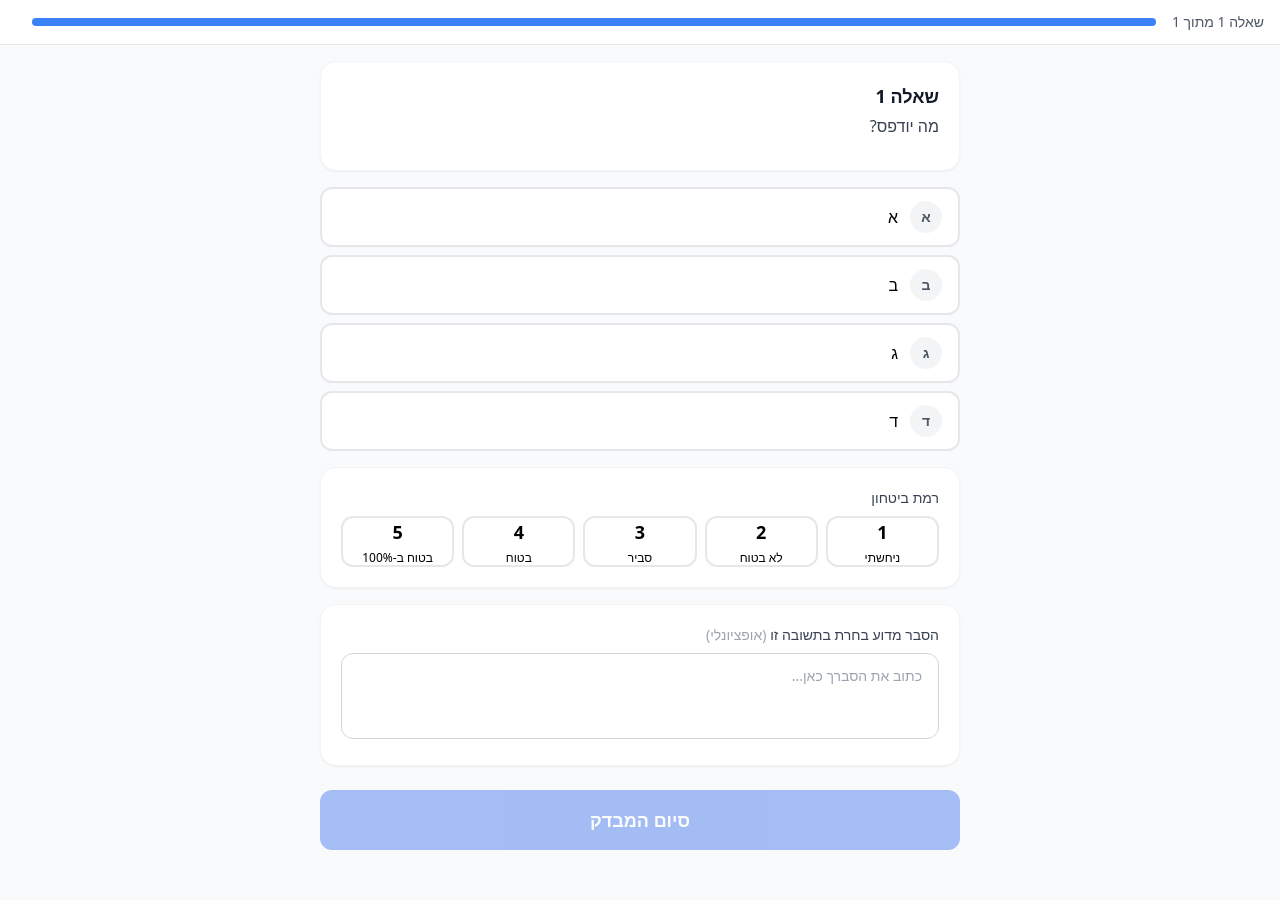
Test: QuizFlow › shows completion message after final question
Click the button "ב ב".
click(926, 285)  # box [320,255,960,315]
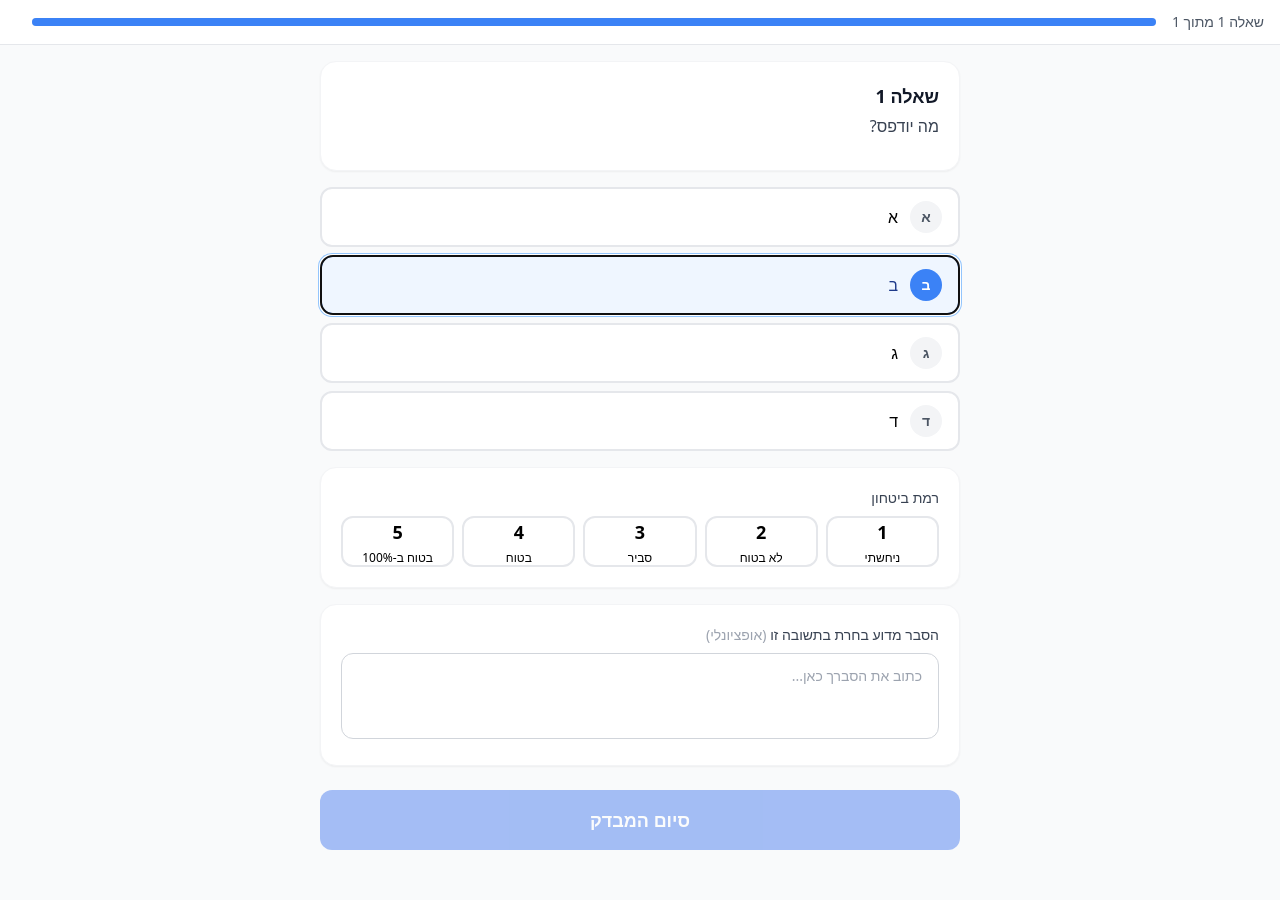
Click the text "3".
click(640, 532)  # box [635,518,645,546]
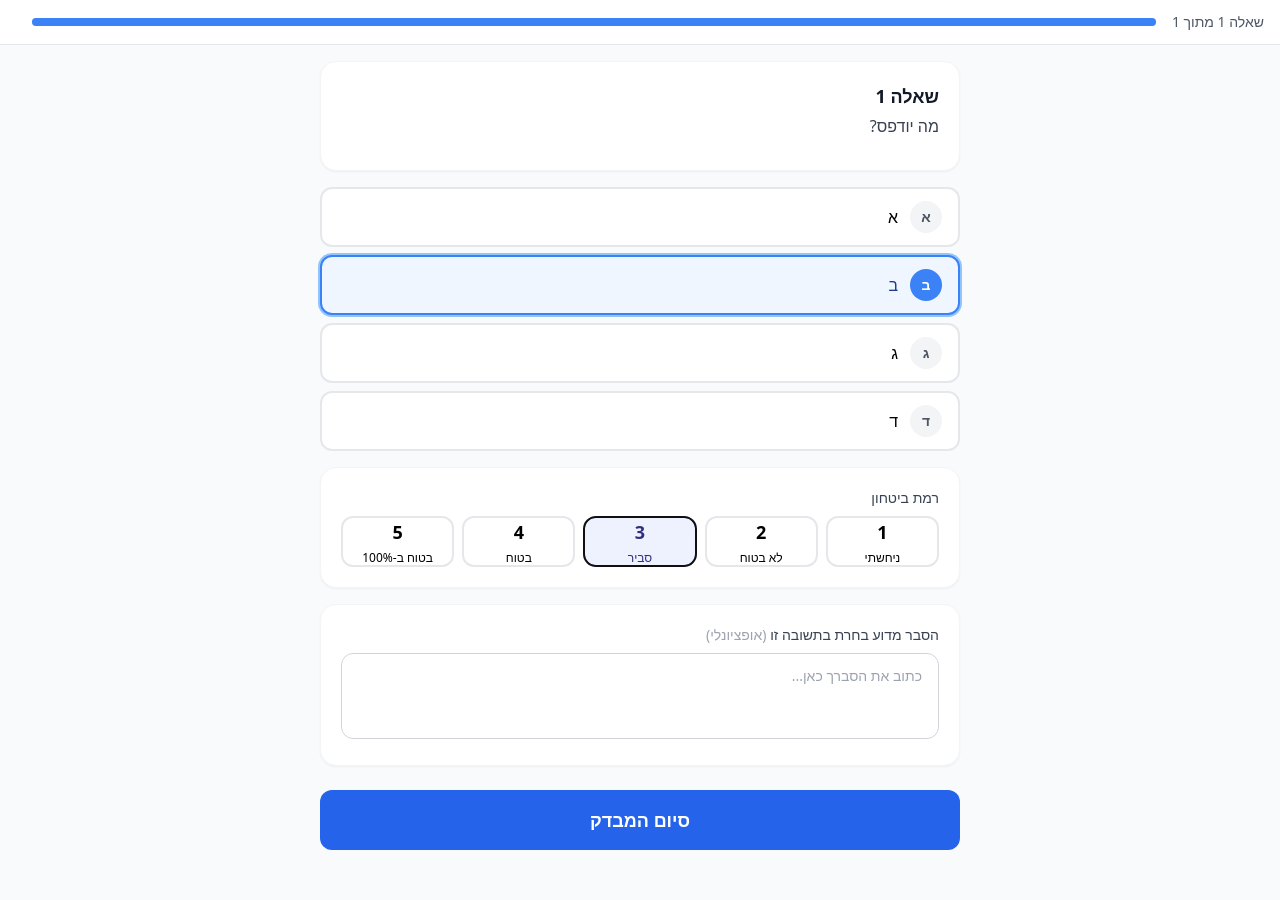
Type "הסבר" into the text box with placeholder "כתוב את הסברך כאן...".
click(640, 696); type("הסבר")  # box [341,653,939,739]
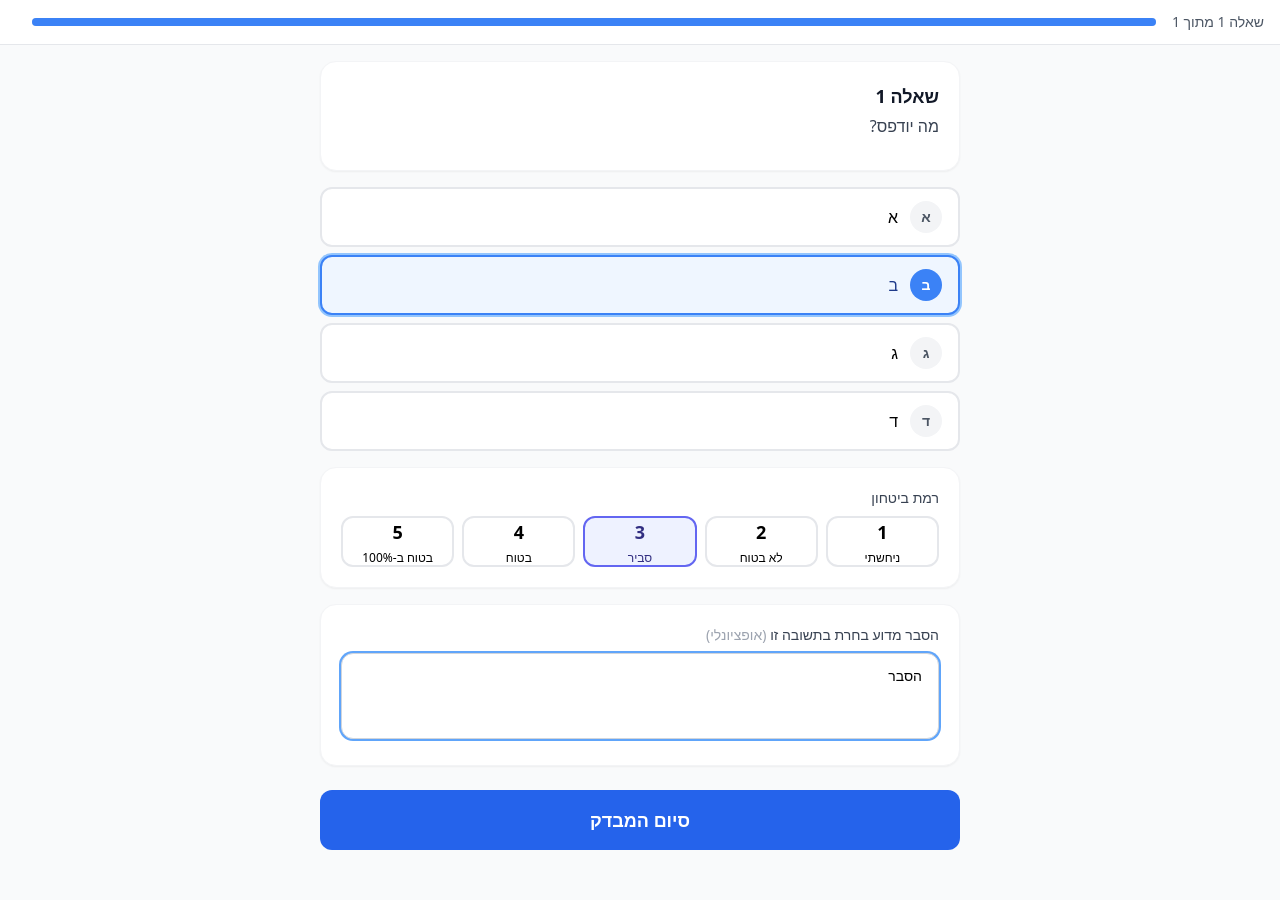
Click the button "סיום המבדק".
click(640, 820)  # box [320,790,960,850]
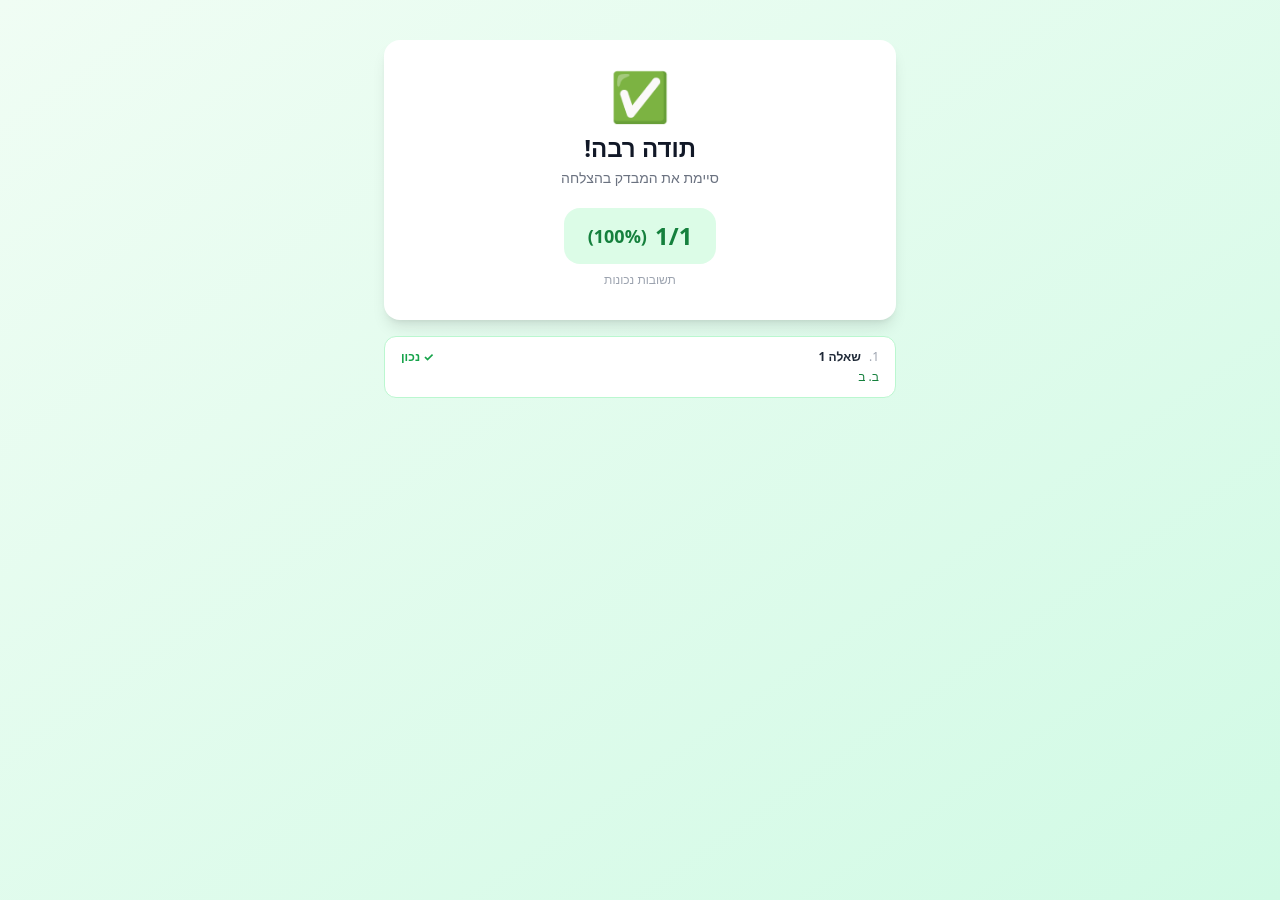
expect the heading "תודה רבה!" is shown: met, box [584,131,696,164]
